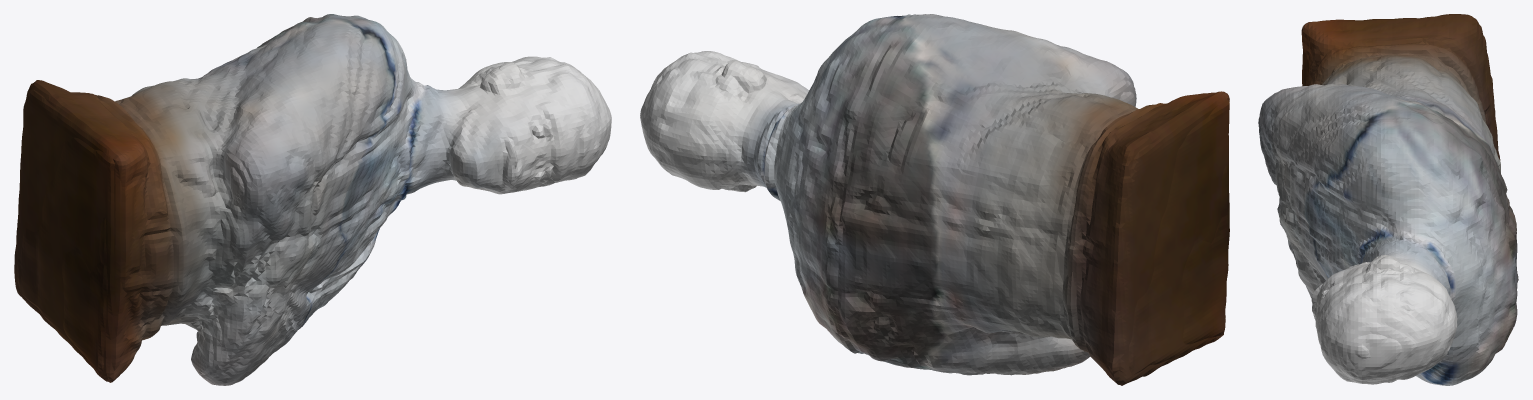
The model's file is gen_791b5fbd.glb.
3 renders of one model, left to right at view 1: azimuth 30°, elevation 25°; view 2: azimuth 150°, elevation 25°; view 3: azimuth 270°, elevation 25°, orthographic. The views are drawn at different scales.
Visible parts, largest first — view 1: world; view 2: world; view 3: world.
Part boxes in pixels (box(x1,y1,x2,y2)): world: box(14, 14, 611, 385); world: box(640, 14, 1229, 385); world: box(1258, 14, 1518, 385).
Size of the model in its own units: 1.01 by 0.584 by 0.4682.
